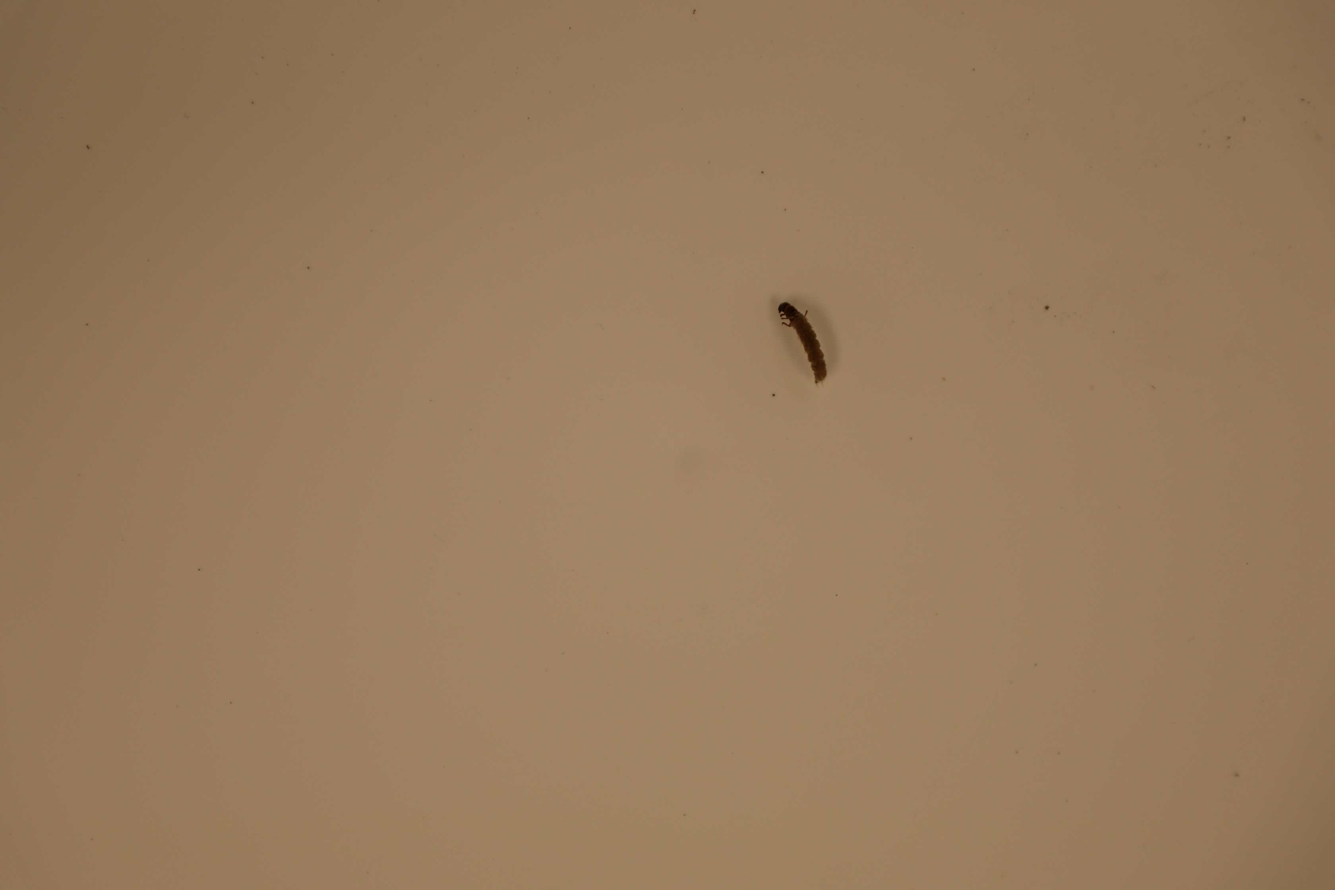Cadisfly: (776, 297, 831, 385)
